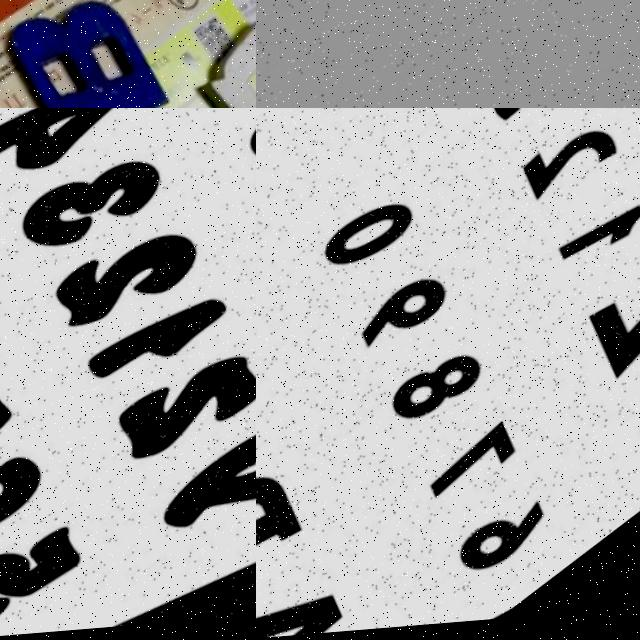0: (290, 170, 439, 310)
1: (68, 254, 256, 431), (546, 184, 640, 298)
2: (29, 182, 229, 375), (500, 108, 640, 235)
3: (0, 108, 197, 303), (472, 108, 601, 149)
4: (0, 108, 183, 244)
5: (0, 467, 133, 640)
6: (430, 464, 588, 615), (0, 396, 93, 603)
7: (399, 402, 542, 536), (0, 322, 56, 532)
8: (364, 324, 510, 463)
9: (331, 250, 471, 384)
B: (0, 0, 174, 108)
Q: (195, 2, 256, 108)
